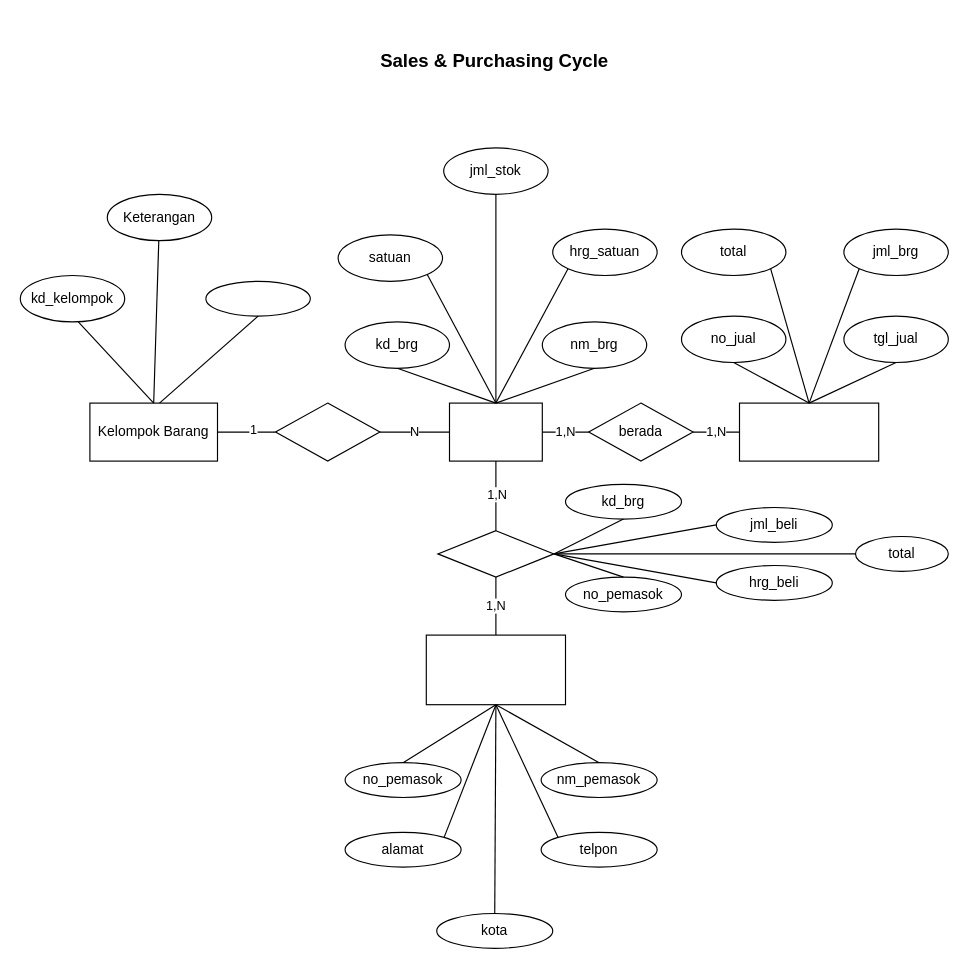
The diagram is 969 pixels wide and 969 high, and some of its shapes have lost their labels. Each missing label, with the box of its shape:
Barang: (448, 402, 542, 461)
beli: (437, 530, 554, 577)
memiliki: (274, 402, 380, 461)
nm_kelompok: (205, 280, 310, 316)
Pemasok: (425, 634, 566, 705)
Transaksi_Penjualan: (738, 402, 879, 461)
